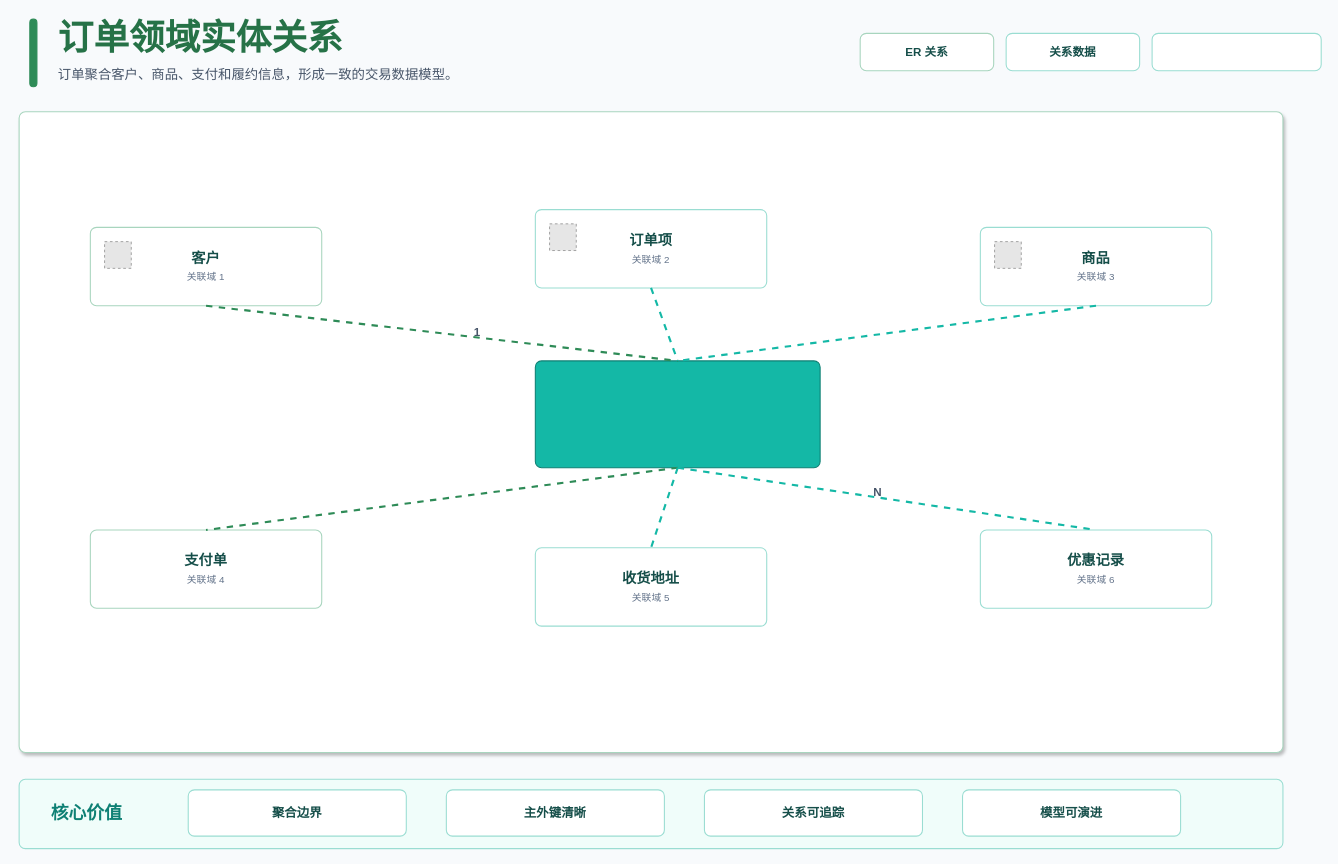
This 1338x864 diagram has some shape labels left out. Grey dashed boxes stand in for pictures. Here are the shapes that lost their labels. From the top down, the centre of each, then its label:
At [1236,51]: "Mint green".
At [677,414]: "订单 核心主题".
